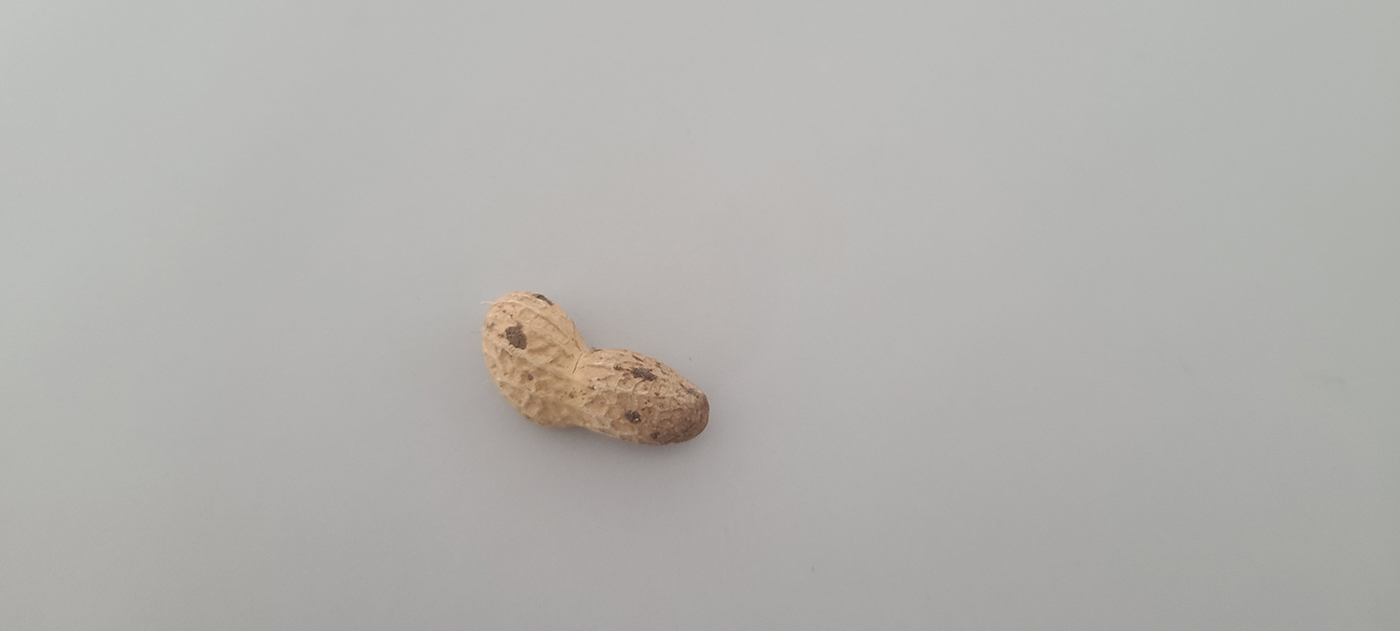h: (478, 286, 709, 444)
